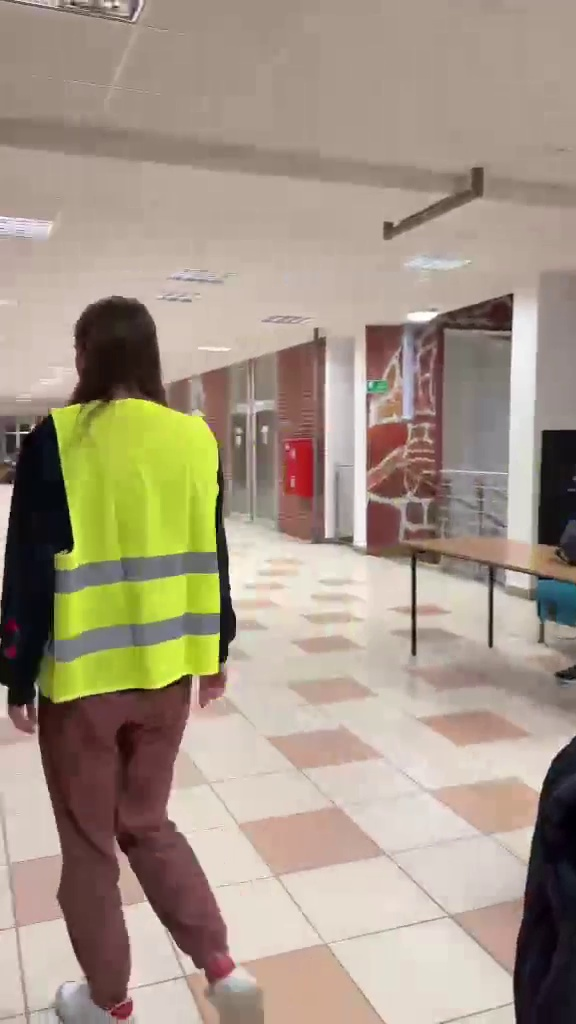vest: (10, 288, 270, 992)
